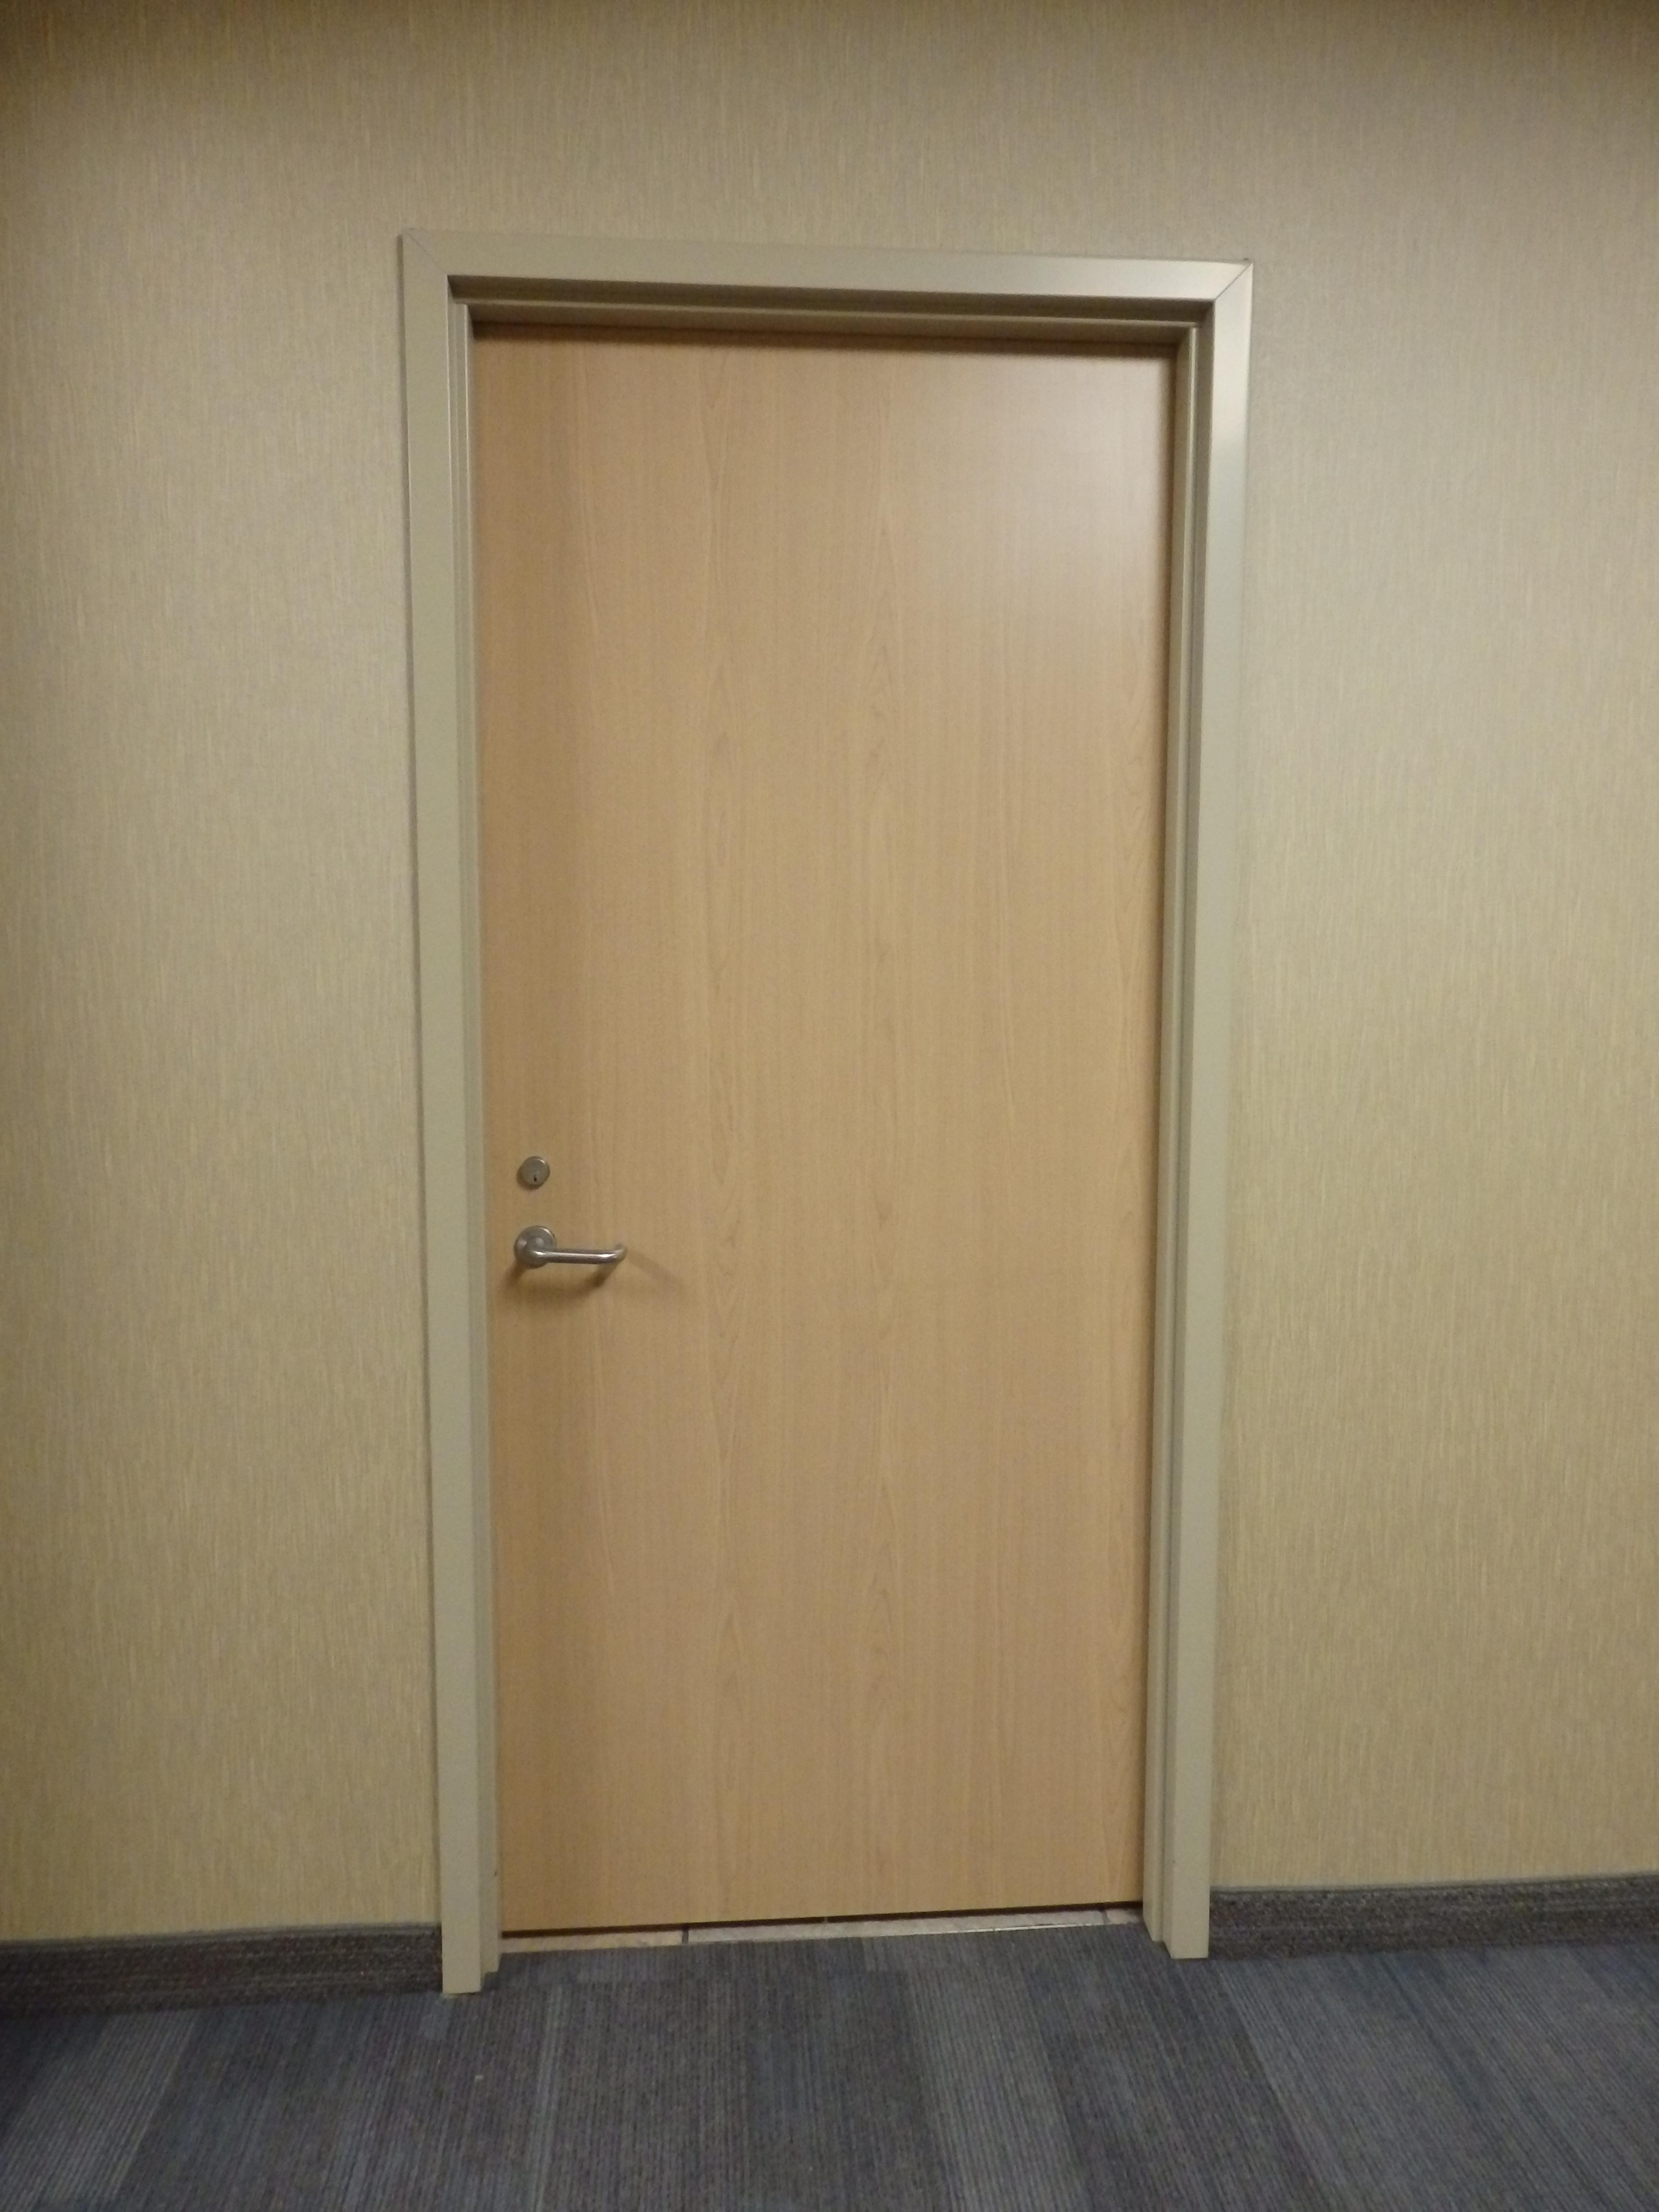door: (404, 228, 1260, 1989)
